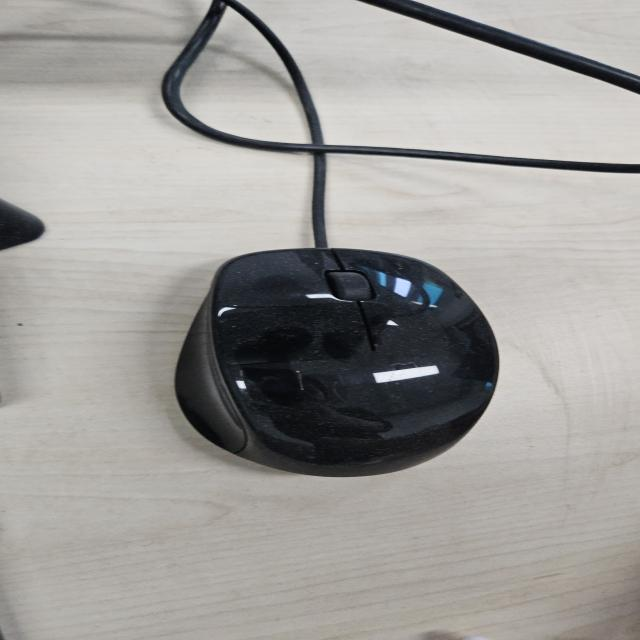Mouse: (172, 246, 502, 478)
